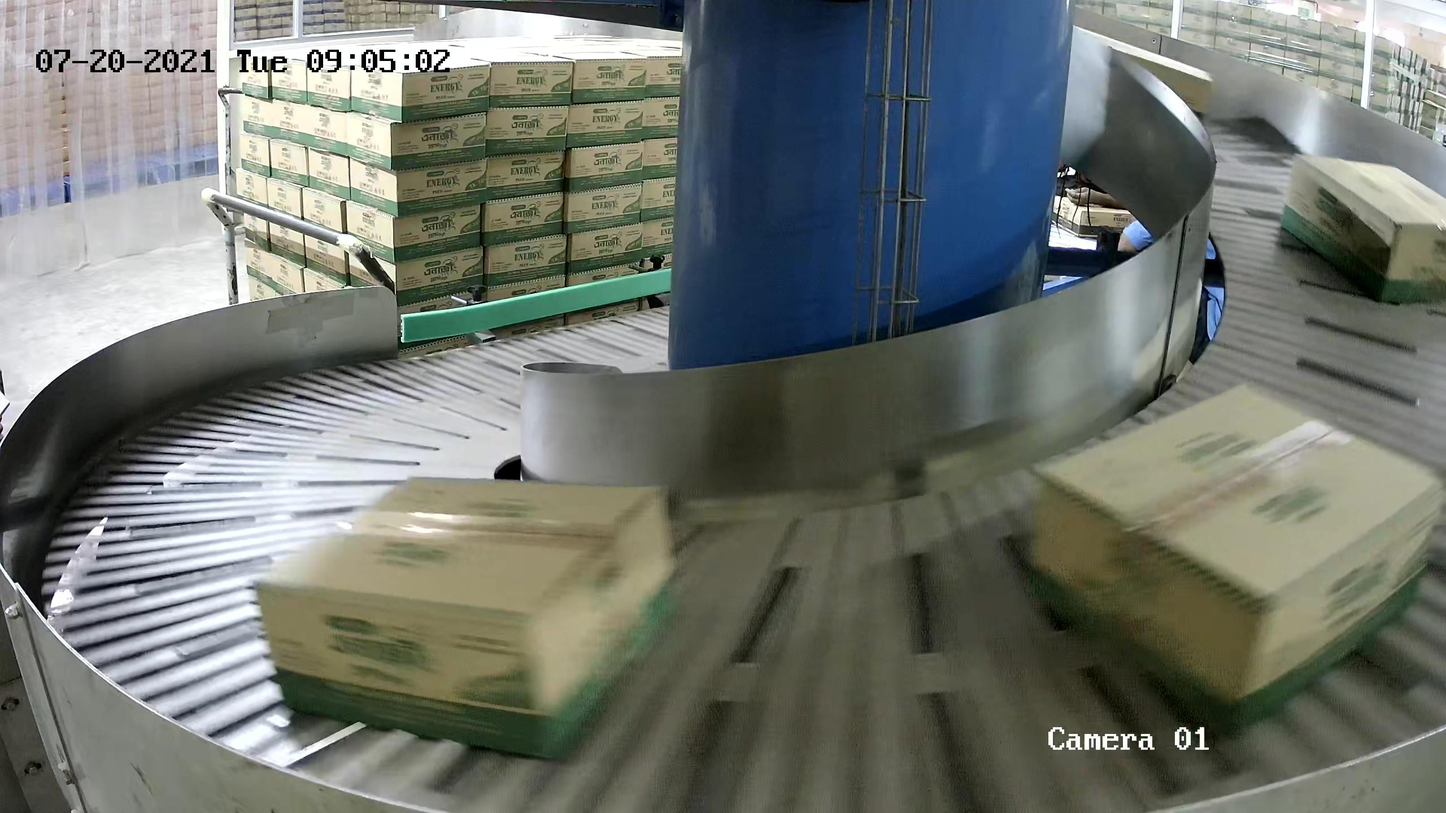Box: (1027, 382, 1443, 736), (253, 475, 687, 765), (1279, 153, 1446, 307)
